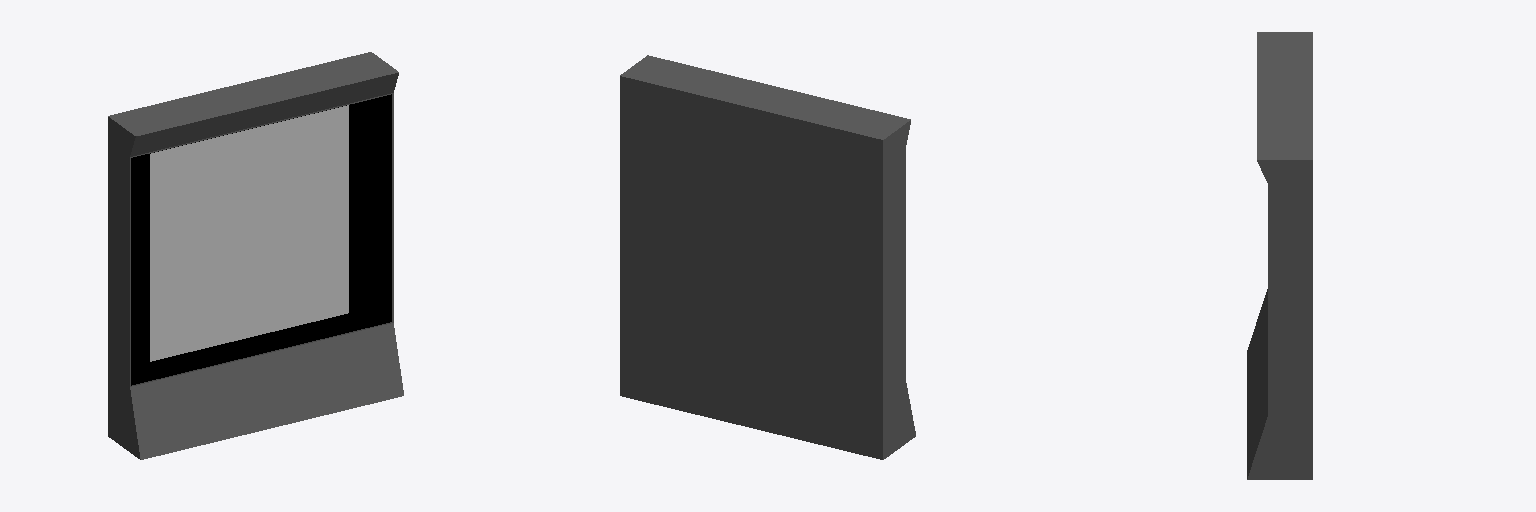
Rendered from NFTSlot.obj.
3 views of the same model, side by side, from view 1: azimuth 30°, elevation 25°; view 2: azimuth 150°, elevation 25°; view 3: azimuth 270°, elevation 25° (orthographic).
Visible parts, largest first — view 1: Cube, Slot_Plane; view 2: Cube; view 3: Cube.
Part boxes in pixels (bbox=[...]): Cube: bbox=[108, 52, 403, 459]; Slot_Plane: bbox=[150, 105, 348, 361]; Cube: bbox=[620, 55, 915, 459]; Cube: bbox=[1247, 32, 1312, 479].
Bounding box in the file's own units: 5.36 × 6.22 × 1.16.